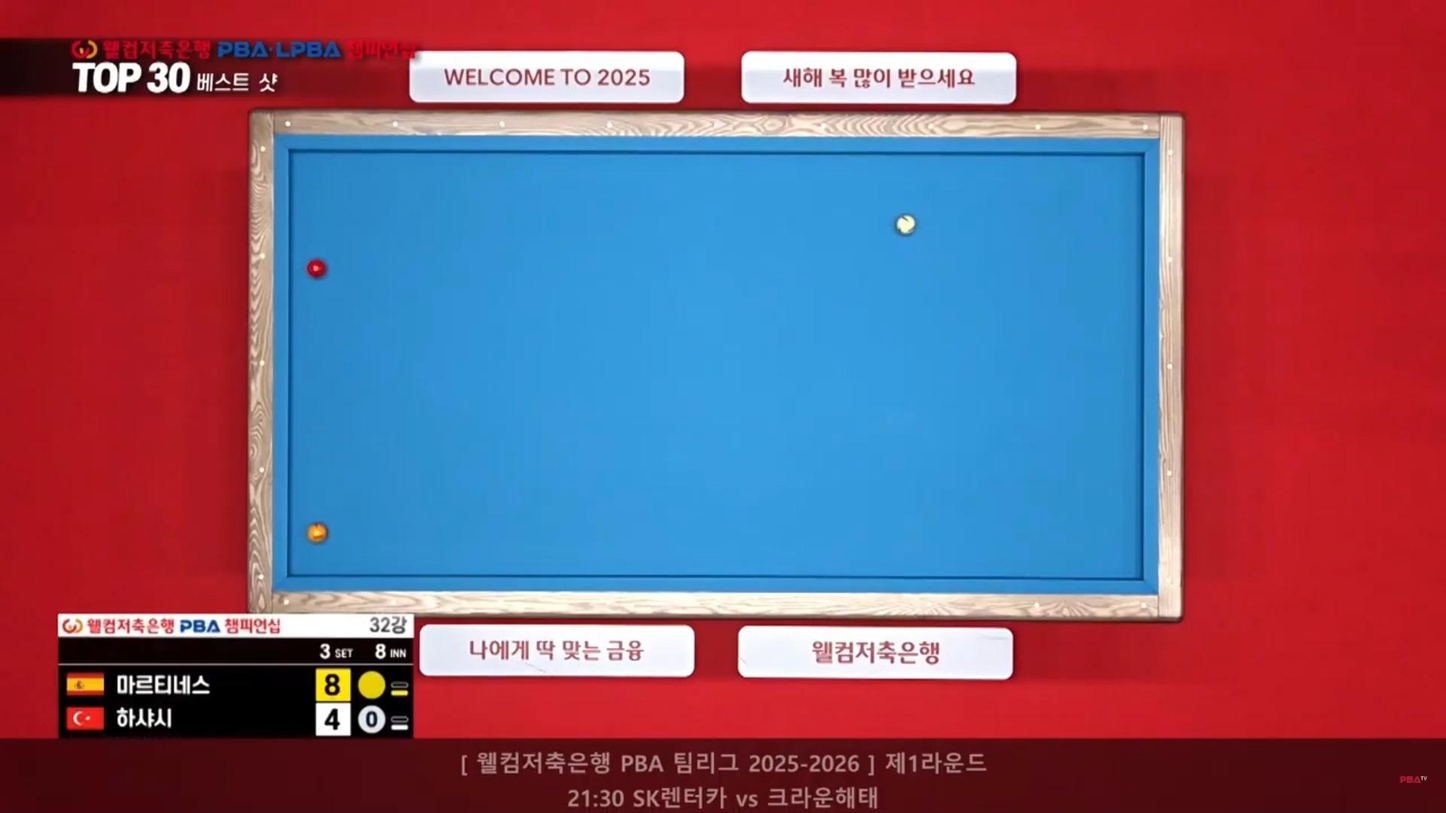-billiard-ball: (894, 213, 916, 236)
Red: (306, 261, 329, 279)
White: (892, 215, 916, 235)
billiard-ball-Yellow: (303, 522, 328, 544)
